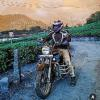motorcycles: (36, 40, 70, 98)
